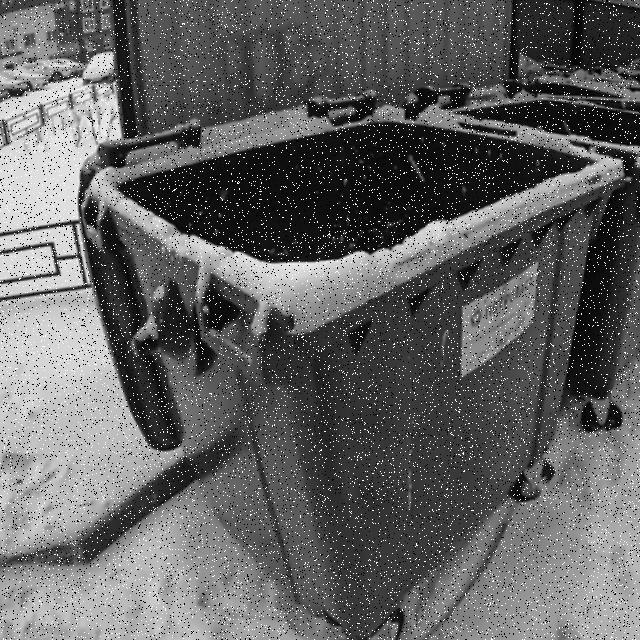Trashcan: (72, 82, 622, 631), (407, 55, 640, 438)
